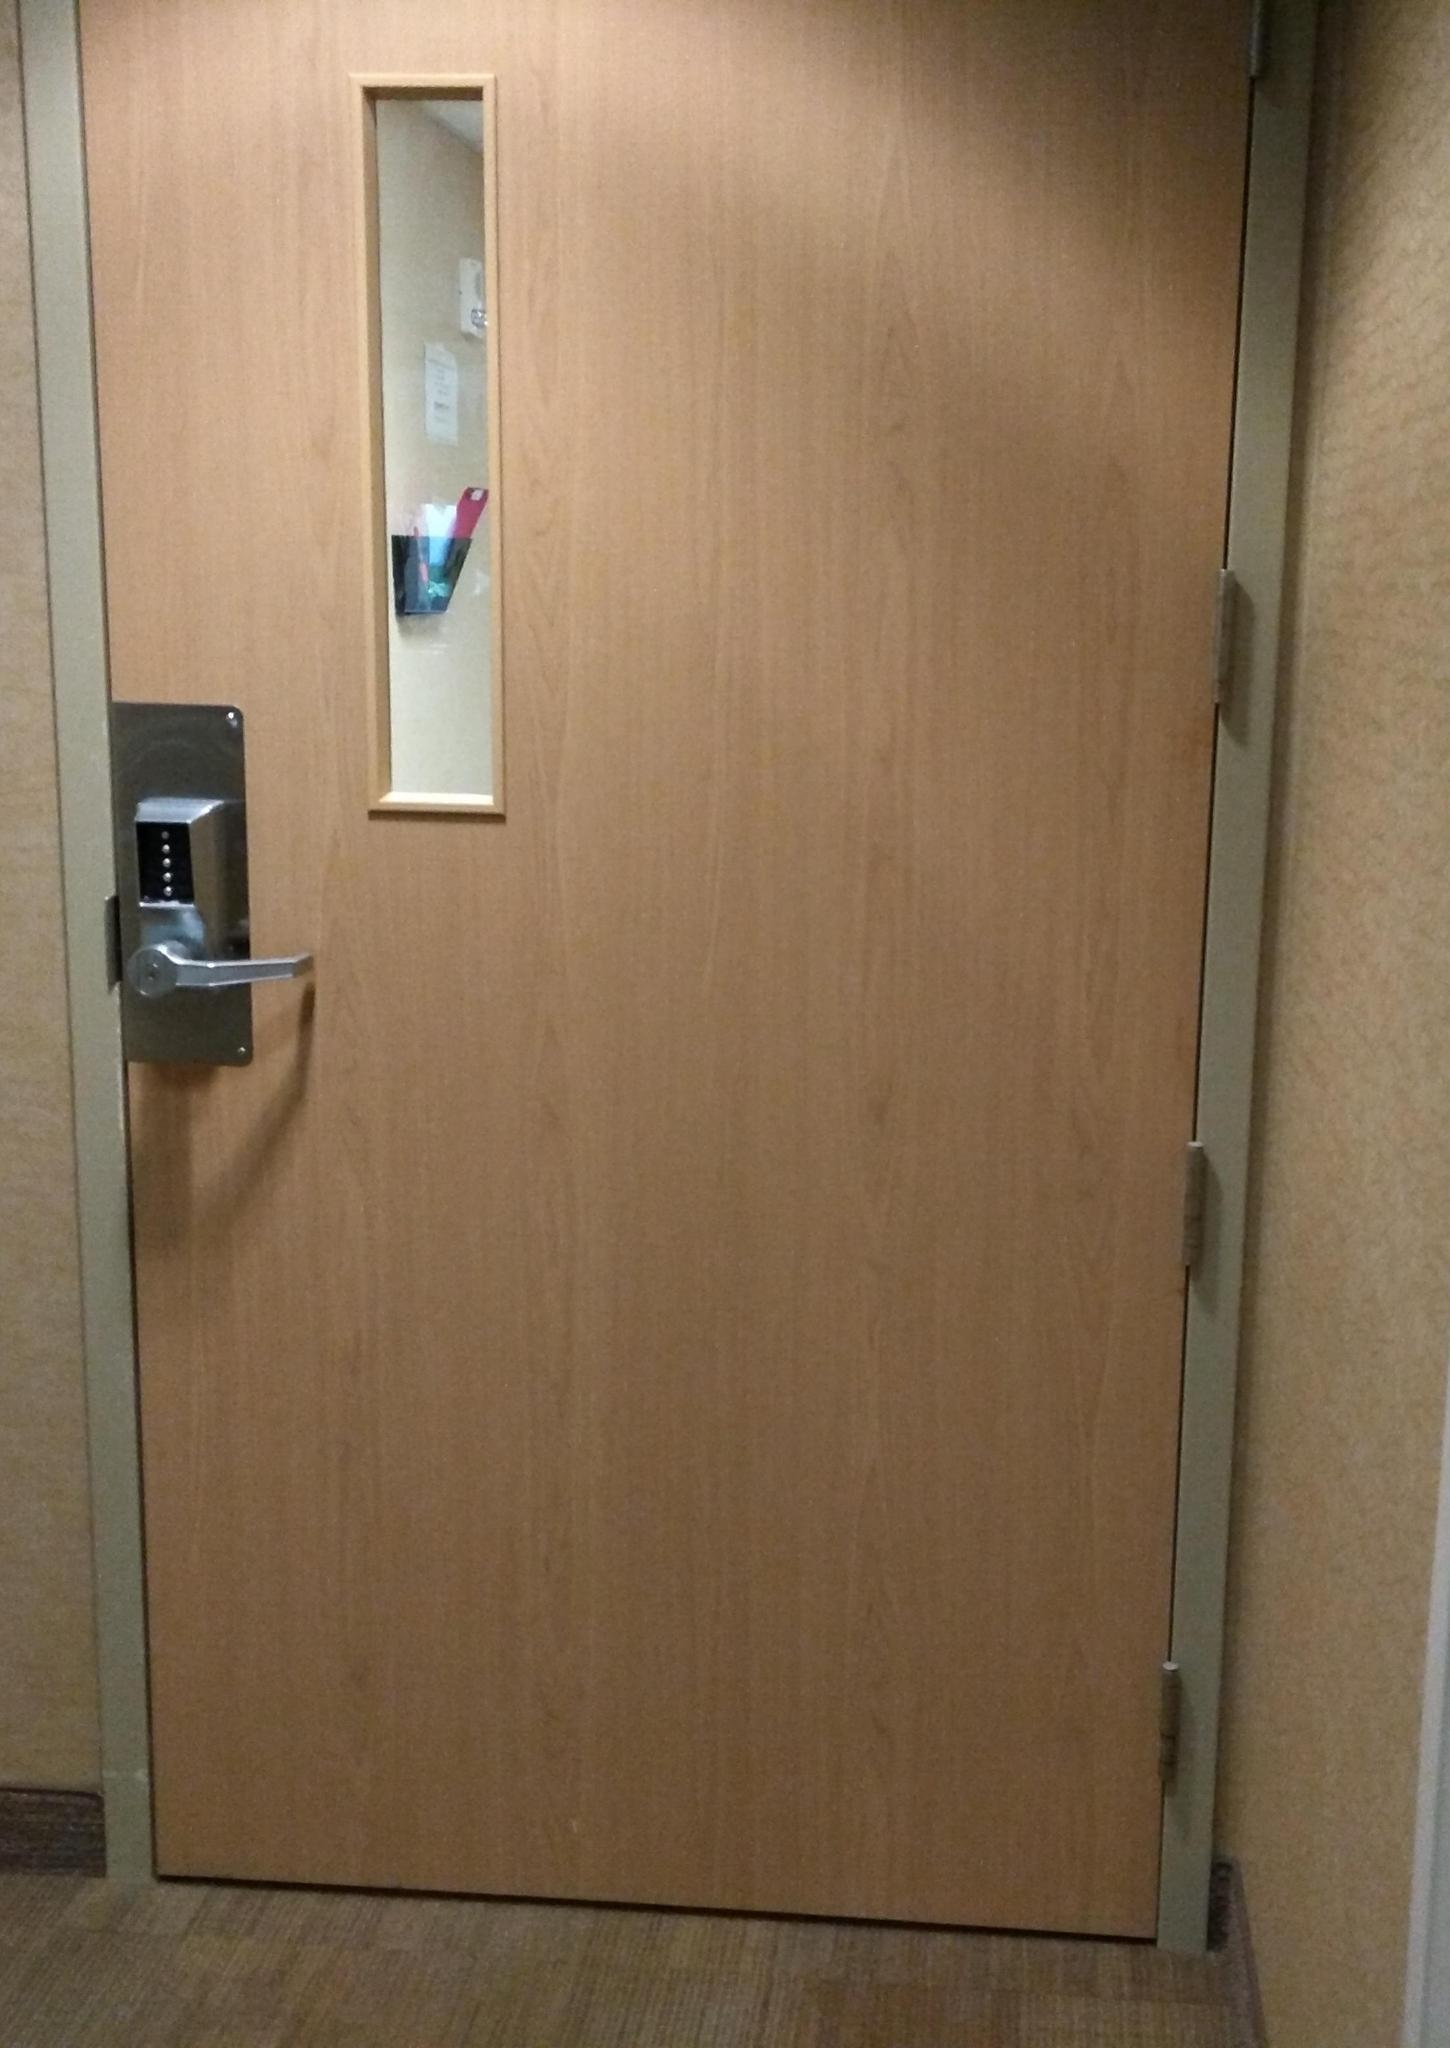door: (157, 69, 1186, 1891)
handle: (119, 916, 315, 1037)
